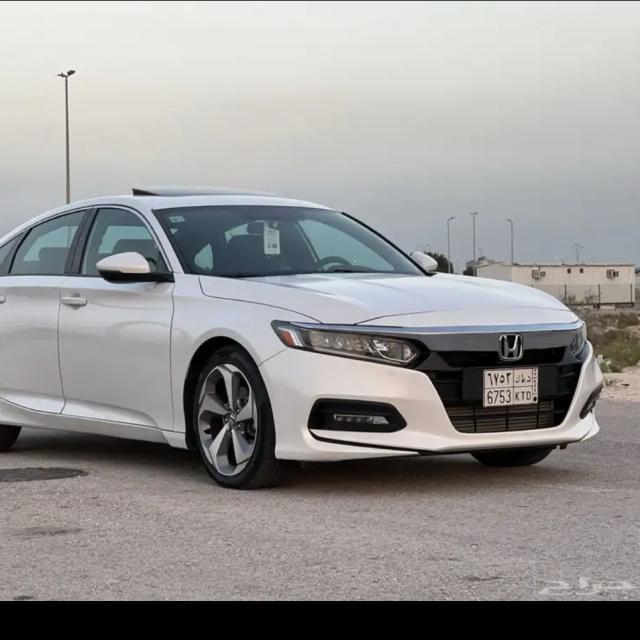license_plate: (483, 368, 542, 409)
